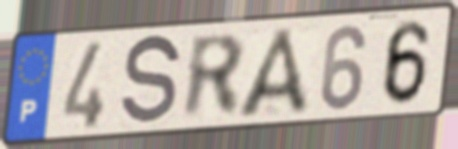4: (59, 38, 108, 132)
6: (381, 18, 436, 109), (317, 21, 369, 114)
A: (233, 25, 314, 122)
R: (181, 31, 247, 123)
S: (117, 31, 184, 131)
